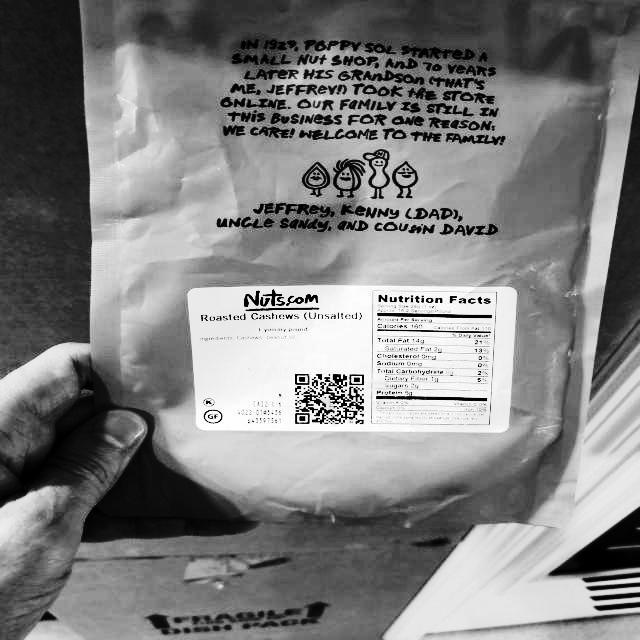qr_code: (280, 357, 380, 432)
